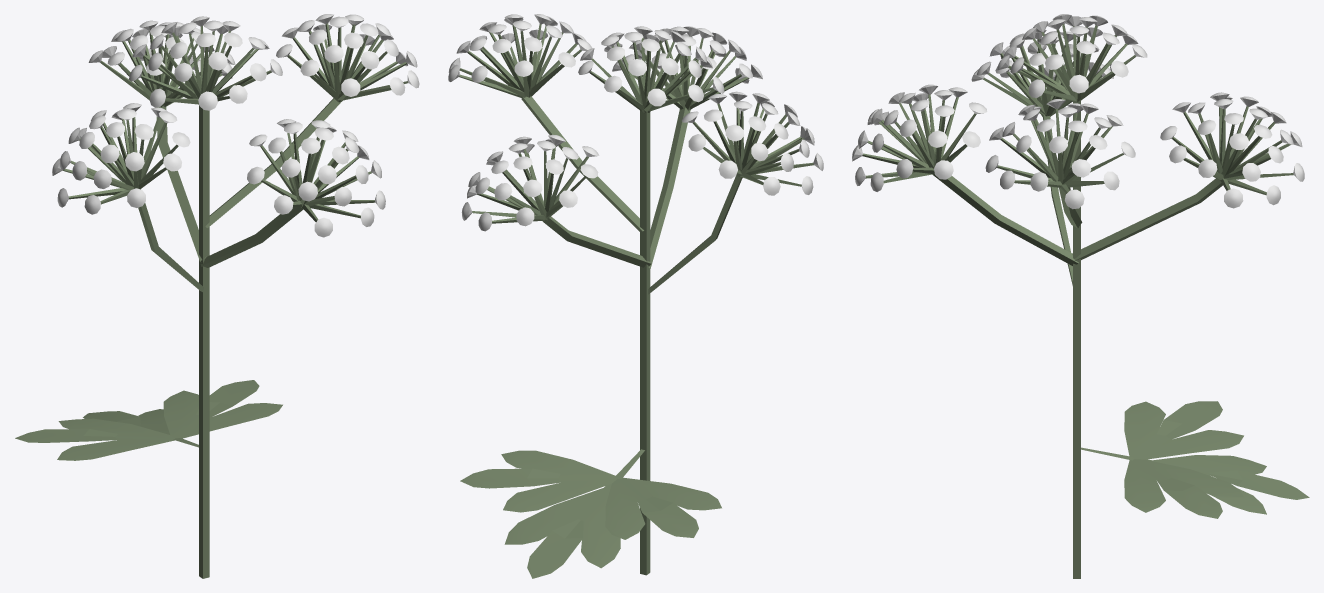
Rendered from Hogweed.fbx.
3 renders of one model, left to right at view 1: azimuth 30°, elevation 25°; view 2: azimuth 150°, elevation 25°; view 3: azimuth 270°, elevation 25°, orthographic. The views are drawn at different scales.
Visible parts, largest first — view 1: pPlane13, pCube15, pCube27, pCube28, pCube30, pCube29; view 2: pPlane13, pCube15, pCube28, pCube27, pCube30, pCube29; view 3: pPlane13, pCube15, pCube28, pCube30, pCube29.
Boxes of the visible parts, x1,y1,x2,y2 form: pPlane13: [15, 380, 282, 460]; pCube15: [199, 105, 209, 578]; pCube27: [205, 98, 341, 227]; pCube28: [200, 207, 303, 267]; pCube30: [156, 106, 206, 261]; pCube29: [138, 189, 203, 291]; pPlane13: [460, 449, 721, 578]; pCube15: [640, 110, 650, 575]; pCube28: [648, 107, 690, 268]; pCube27: [521, 96, 643, 231]; pCube30: [542, 216, 651, 267]; pCube29: [648, 175, 742, 294]; pPlane13: [1081, 401, 1309, 518]; pCube15: [1073, 99, 1080, 578]; pCube28: [932, 174, 1078, 265]; pCube30: [1072, 178, 1222, 260]; pCube29: [1043, 115, 1072, 285].
Bounding box in the file's own units: 1.04 × 1.53 × 1.14.
